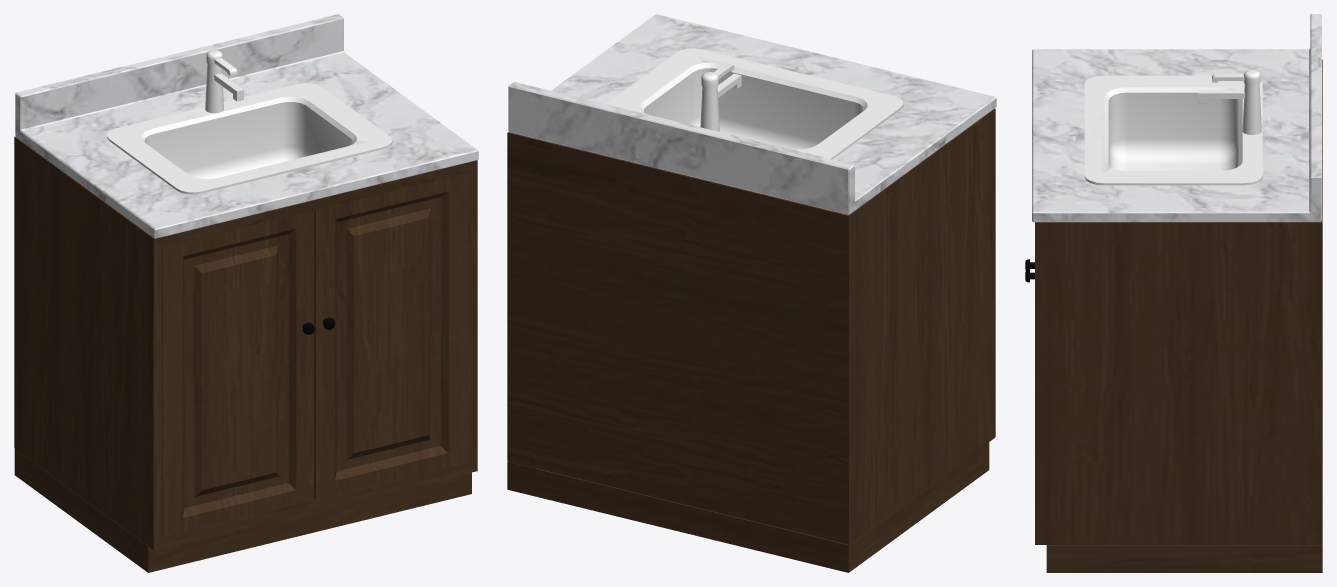
Rendered from kitchen-cabinet-sink.glb.
The picture shows the model from 3 angles, left to right: view 1: azimuth 30°, elevation 25°; view 2: azimuth 150°, elevation 25°; view 3: azimuth 270°, elevation 25°; orthographic projection. The views are drawn at different scales.
Parts seen in each view (by area): view 1: kitchen3:pCube2_0; view 2: kitchen3:pCube2_0; view 3: kitchen3:pCube2_0.
Part boxes in pixels (x1=…): kitchen3:pCube2_0: x1=14, y1=14, x2=478, y2=572; kitchen3:pCube2_0: x1=507, y1=14, x2=996, y2=572; kitchen3:pCube2_0: x1=1025, y1=14, x2=1322, y2=572.
Size of the model in its own units: 0.7488 by 0.9 by 0.5755.
Materials: 1 (1 with a texture image).
